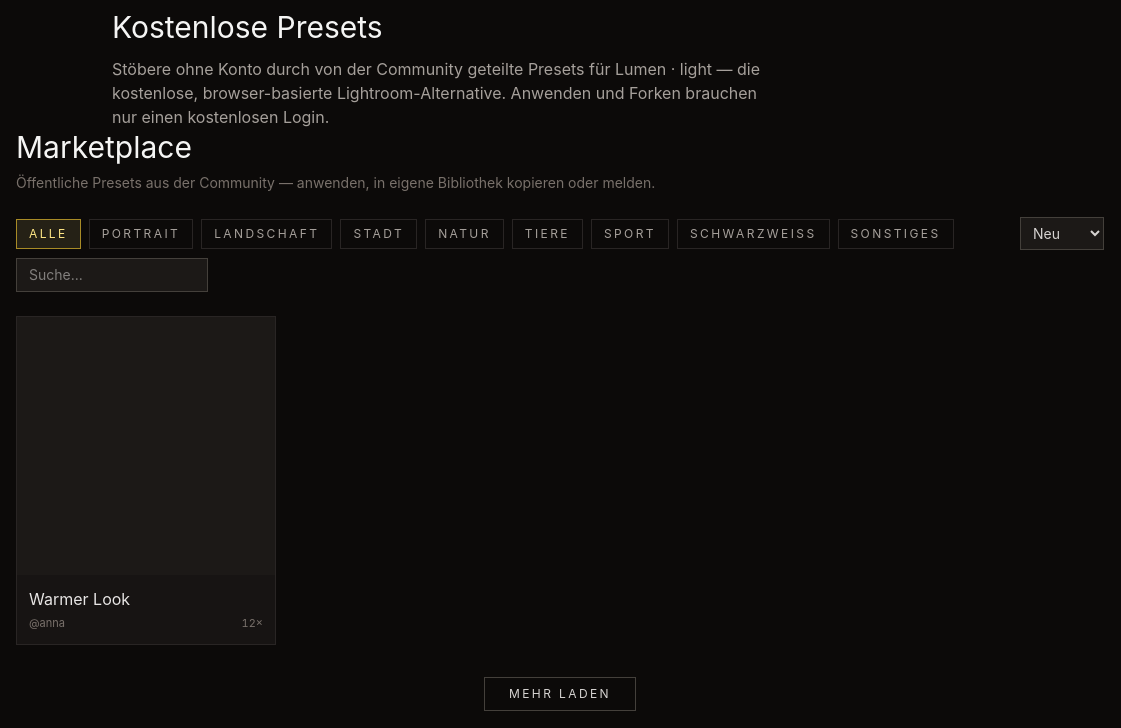
Scenario: Marketplace › Mehr-laden uebergibt Cursor
Expected: the button with test id "marketplace-card-p-1" is shown, [16, 316, 276, 644]
Click the button with test id "marketplace-load-more". click: (560, 694)
box: [484, 676, 636, 710]
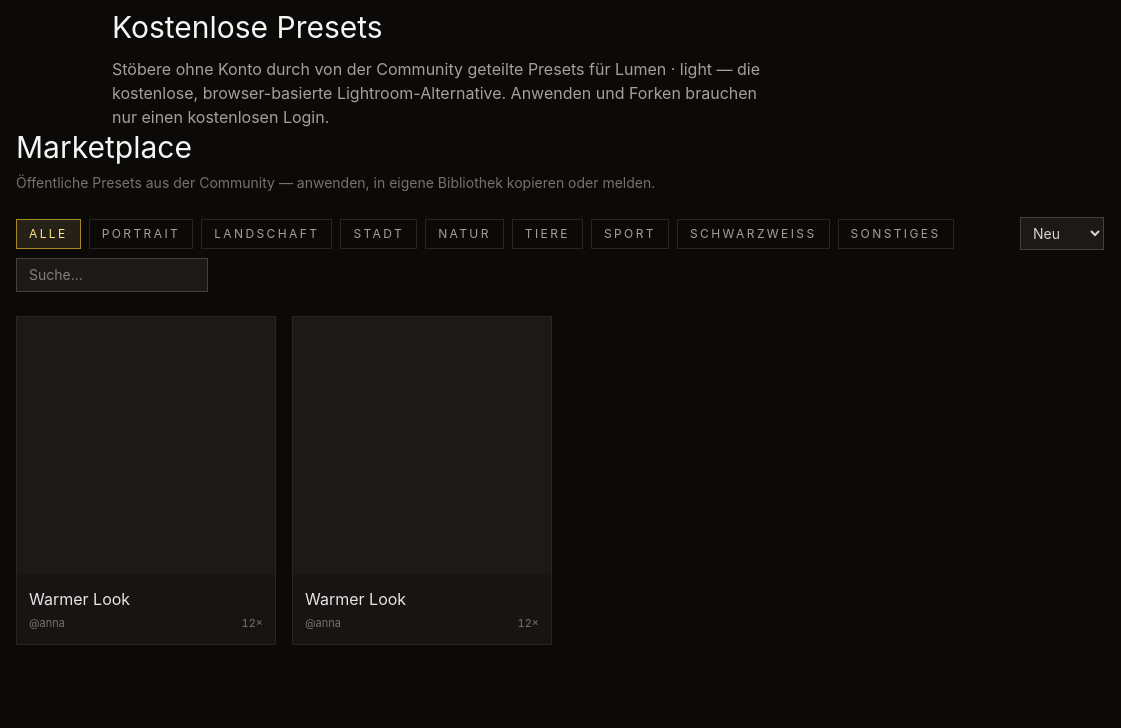
Expected: the button with test id "marketplace-card-p-2" is shown, [292, 316, 552, 644]
